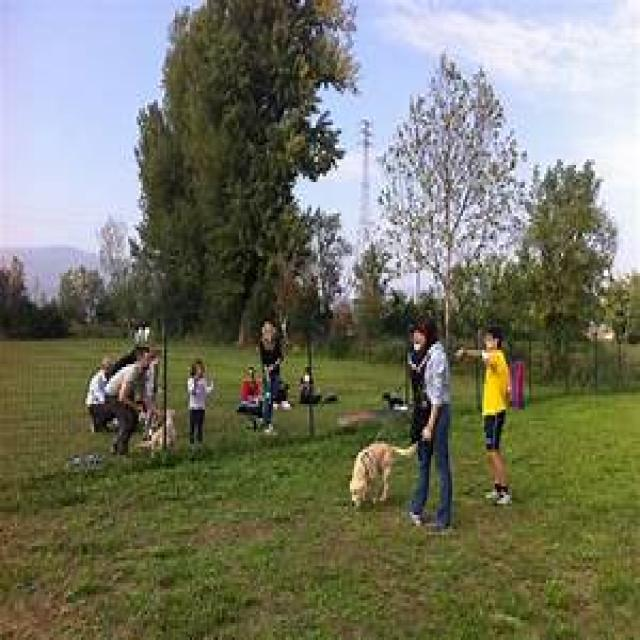KOPEK: (343, 429, 414, 512)
